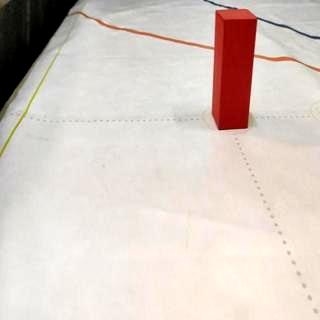redbox: (212, 9, 256, 130)
